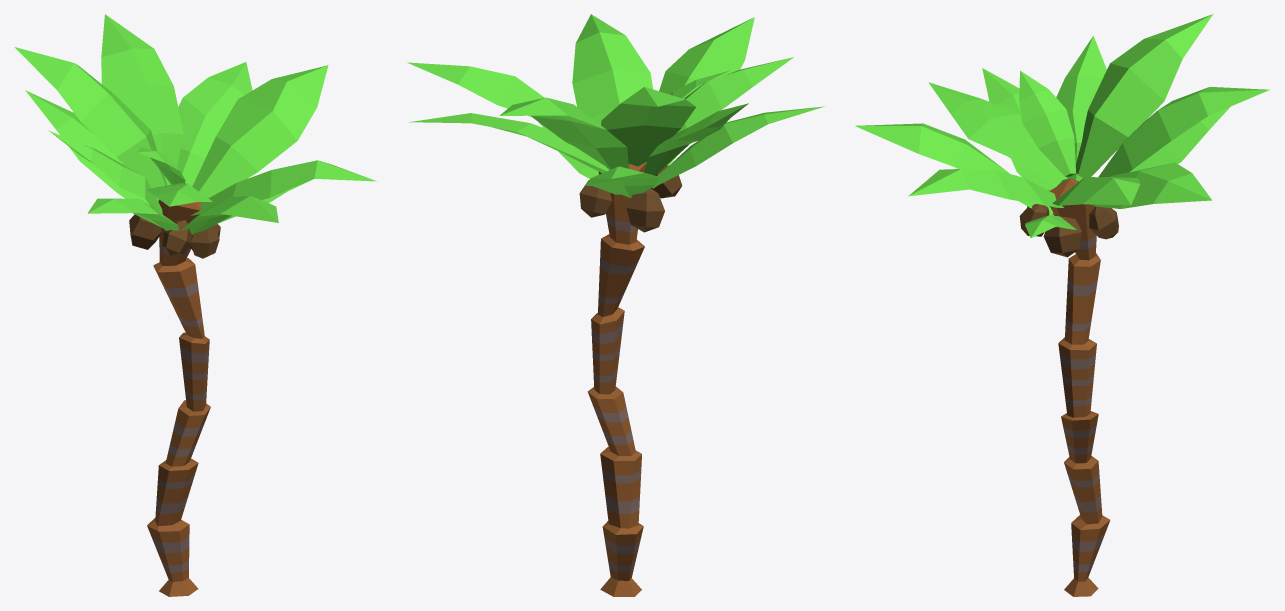
Rendered from low_poly_palmtree.fbx.
The picture shows the model from 3 angles, left to right: view 1: azimuth 30°, elevation 25°; view 2: azimuth 150°, elevation 25°; view 3: azimuth 270°, elevation 25°; orthographic projection. The views are drawn at different scales.
Parts seen in each view (by area): view 1: PalmTree; view 2: PalmTree; view 3: PalmTree.
Part boxes in pixels (bbox=[...]): PalmTree: bbox=[14, 14, 377, 596]; PalmTree: bbox=[407, 14, 824, 596]; PalmTree: bbox=[855, 14, 1269, 596].
Bounding box in the file's own units: 396 × 625 × 448.
